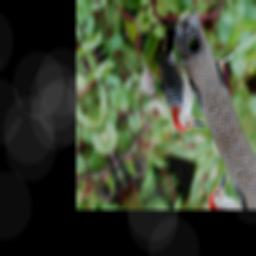Woodpecker: (137, 12, 219, 144)
